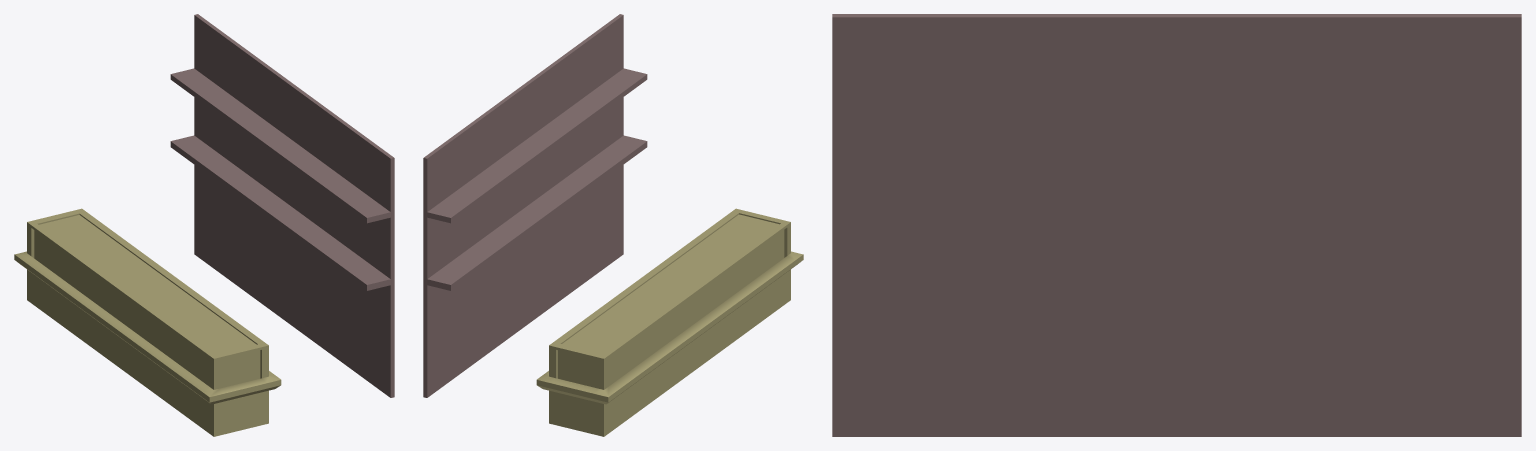
Rendered from Prize Counter.fbx.
3 views of the same model, side by side, from view 1: azimuth 30°, elevation 25°; view 2: azimuth 150°, elevation 25°; view 3: azimuth 270°, elevation 25° (orthographic). The views are drawn at different scales.
Parts seen in each view (by area): view 1: pCube3; view 2: pCube3; view 3: pCube3.
Part boxes in pixels (x1=…): pCube3: x1=14, y1=14, x2=394, y2=436; pCube3: x1=423, y1=14, x2=803, y2=436; pCube3: x1=832, y1=14, x2=1521, y2=436.
Bounding box in the file's own units: 10.96 × 13.63 × 20.26.
